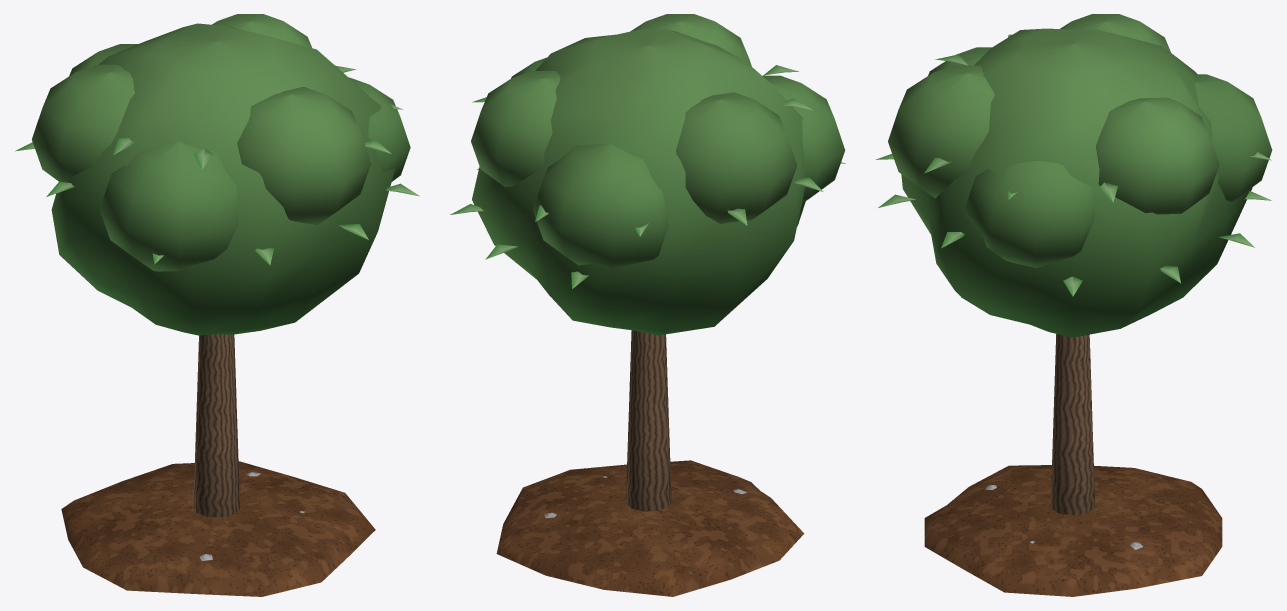
File: plant-mango-2.glb
3 renders of one model, left to right at view 1: azimuth 30°, elevation 25°; view 2: azimuth 150°, elevation 25°; view 3: azimuth 270°, elevation 25°, orthographic. The views are drawn at different scales.
Visible parts, largest first — view 1: plant-mango-2; view 2: plant-mango-2; view 3: plant-mango-2.
Boxes of the visible parts, x1,y1,x2,y2 form: plant-mango-2: (15,14,419,596); plant-mango-2: (450,14,845,596); plant-mango-2: (875,14,1272,596).
Bounding box in the file's own units: 1.32 × 1.76 × 1.3.
Materials: 5 (3 with a texture image).
